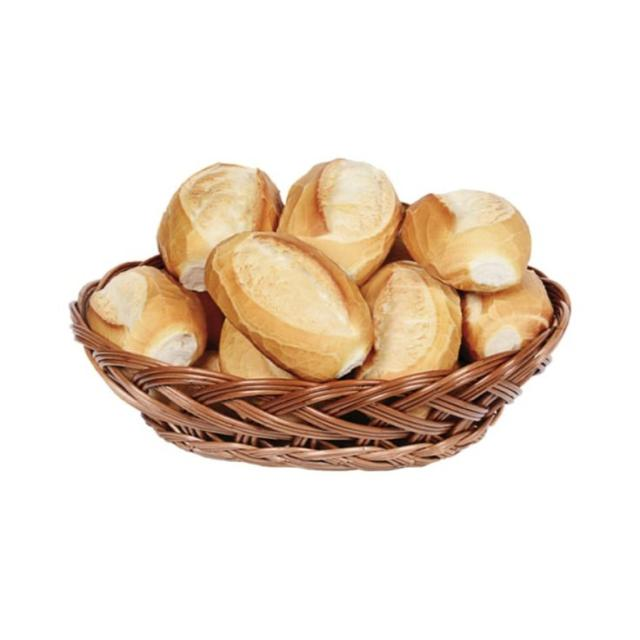bread: (206, 232, 373, 381), (158, 164, 281, 291), (279, 160, 402, 284), (402, 191, 530, 291), (357, 262, 461, 379), (87, 267, 206, 365), (462, 270, 553, 360), (220, 321, 293, 378), (197, 292, 224, 348), (194, 350, 220, 372), (192, 351, 219, 372)
